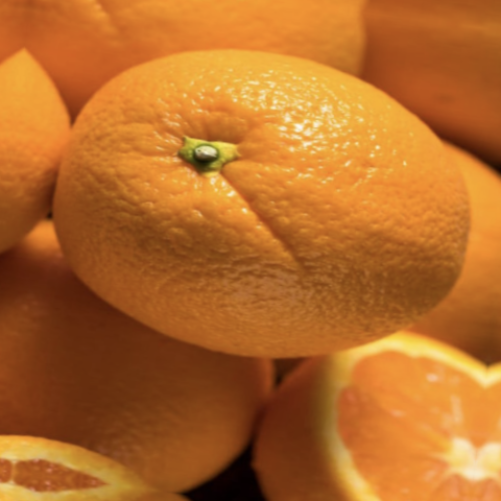orange: (13, 0, 501, 400)
